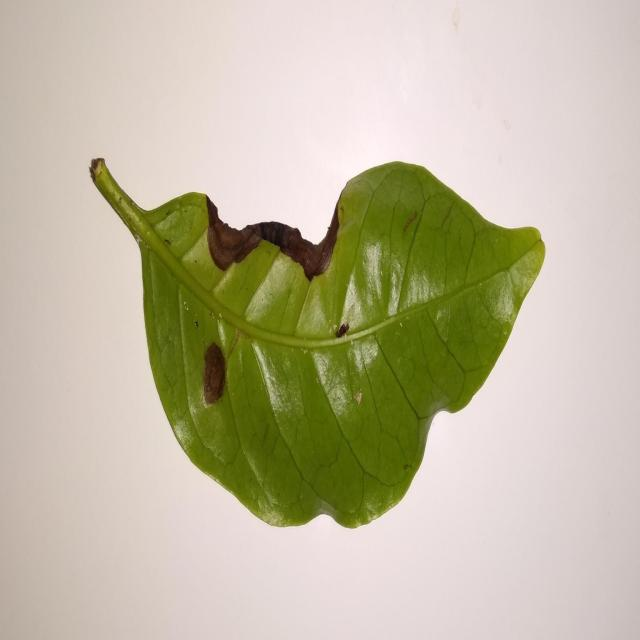Enfermedad-Antracnosis: (88, 158, 547, 532)
